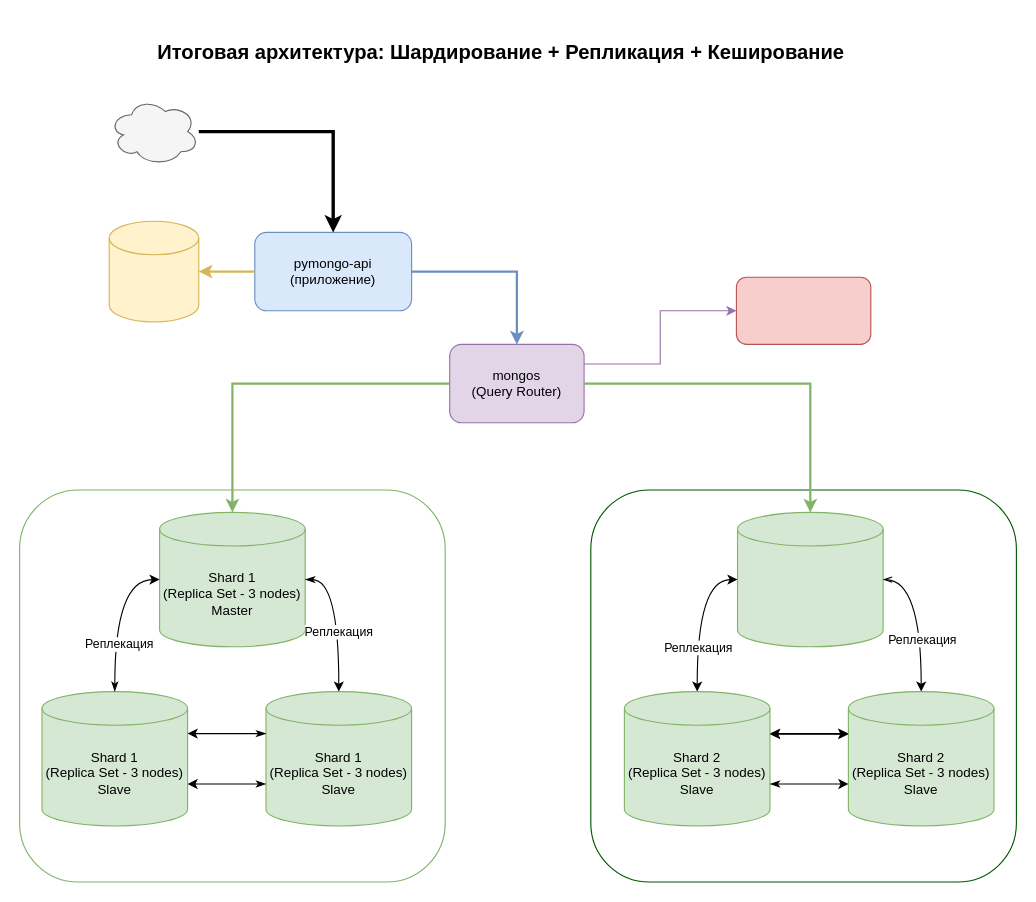
Some shapes in this 1036 by 902 pixel diagram are drawn without their labels. The centre of each missing label's shape, as x and y in pixels:
"Config Server (configSrv)" belongs at (803,310).
"Redis Cache" belongs at (153,271).
"Shard 2 (Replica Set - 3 nodes)" belongs at (809,579).
"Клиенты" belongs at (153,131).
